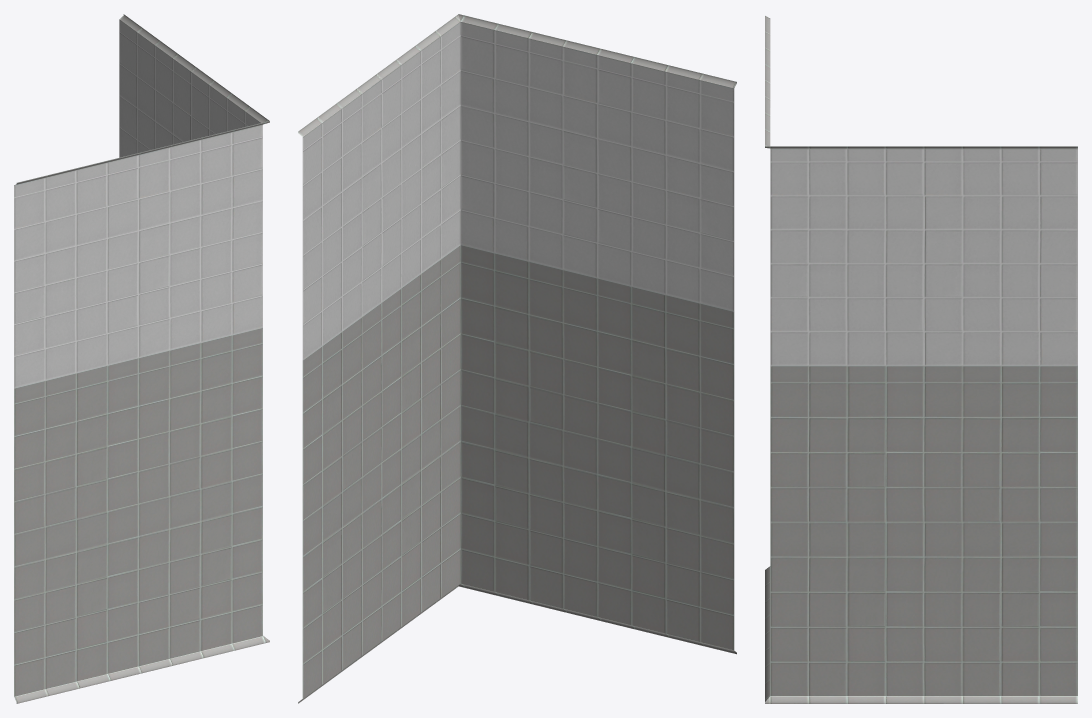
The model's file is bathroom_convex.dae.
3 views of the same model, side by side, from view 1: azimuth 30°, elevation 25°; view 2: azimuth 150°, elevation 25°; view 3: azimuth 270°, elevation 25° (orthographic). The views are drawn at different scales.
Parts seen in each view (by area): view 1: polySurface11; view 2: polySurface11; view 3: polySurface11.
Boxes of the visible parts, box(x1,y1,x2,y2) form: polySurface11: box(14, 14, 269, 703); polySurface11: box(298, 14, 736, 703); polySurface11: box(765, 16, 1077, 703).
Size of the model in its own units: 2.03 by 4 by 2.03.
